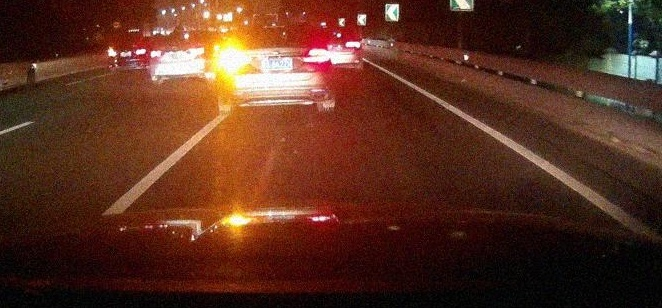L_light: (220, 51, 249, 69)
R_light: (303, 47, 331, 63)
T_light: (265, 29, 281, 33)
night-left: (218, 25, 334, 116)
